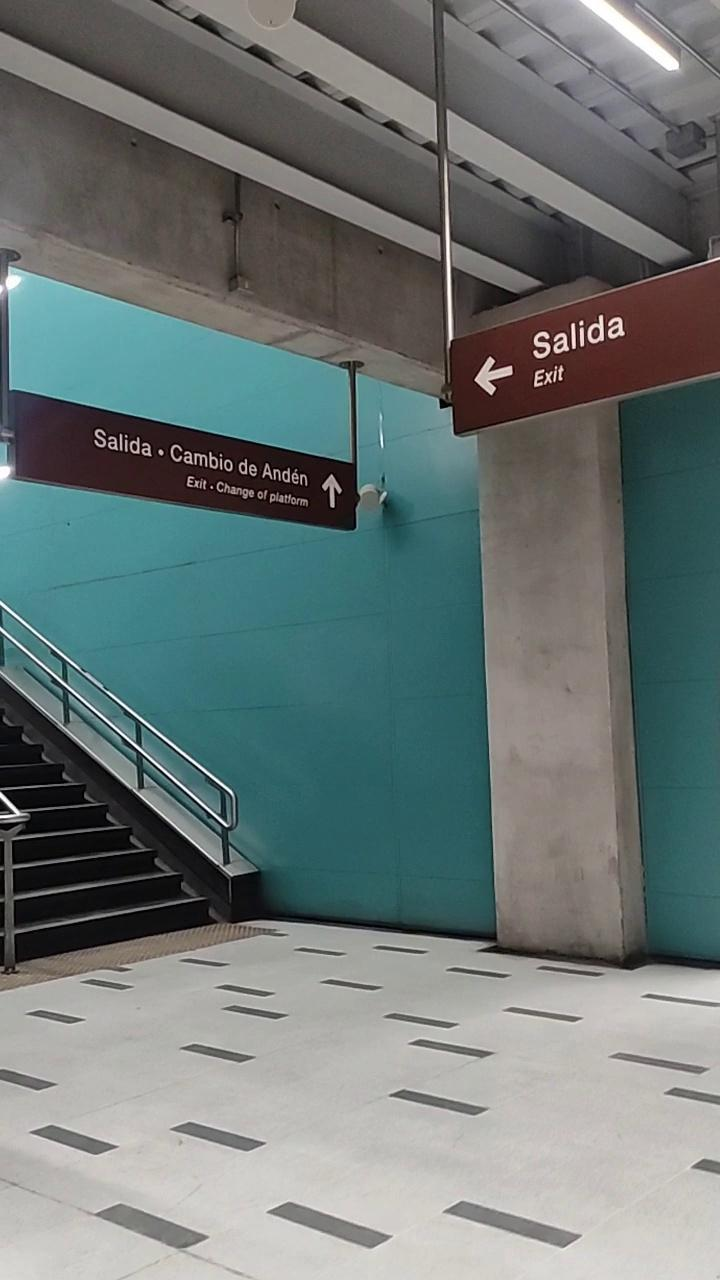left arrow: (462, 348, 517, 402)
up arrow: (317, 462, 347, 518)
